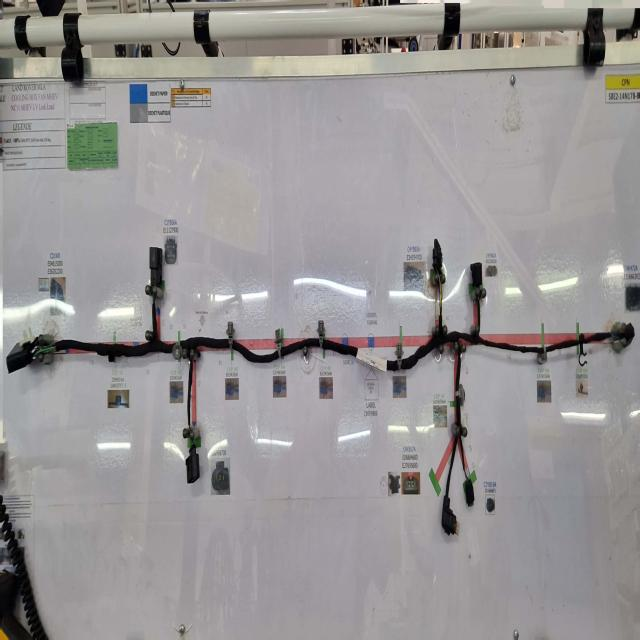Clip: (171, 331, 182, 365), (579, 330, 587, 367), (395, 336, 403, 373), (274, 325, 282, 359), (227, 319, 235, 353), (537, 345, 547, 367), (318, 319, 325, 350), (109, 352, 116, 365)
Connector: (6, 340, 35, 378), (146, 242, 165, 296), (442, 495, 459, 538), (185, 441, 199, 485), (432, 235, 443, 279), (463, 475, 474, 512), (470, 263, 483, 290), (628, 320, 635, 348)
Gape: (32, 336, 62, 360), (592, 331, 614, 349), (150, 286, 159, 327), (186, 416, 194, 448), (438, 270, 443, 321), (463, 463, 470, 477)
MHEV_N11_Cable: (181, 301, 629, 523), (29, 321, 174, 362)
